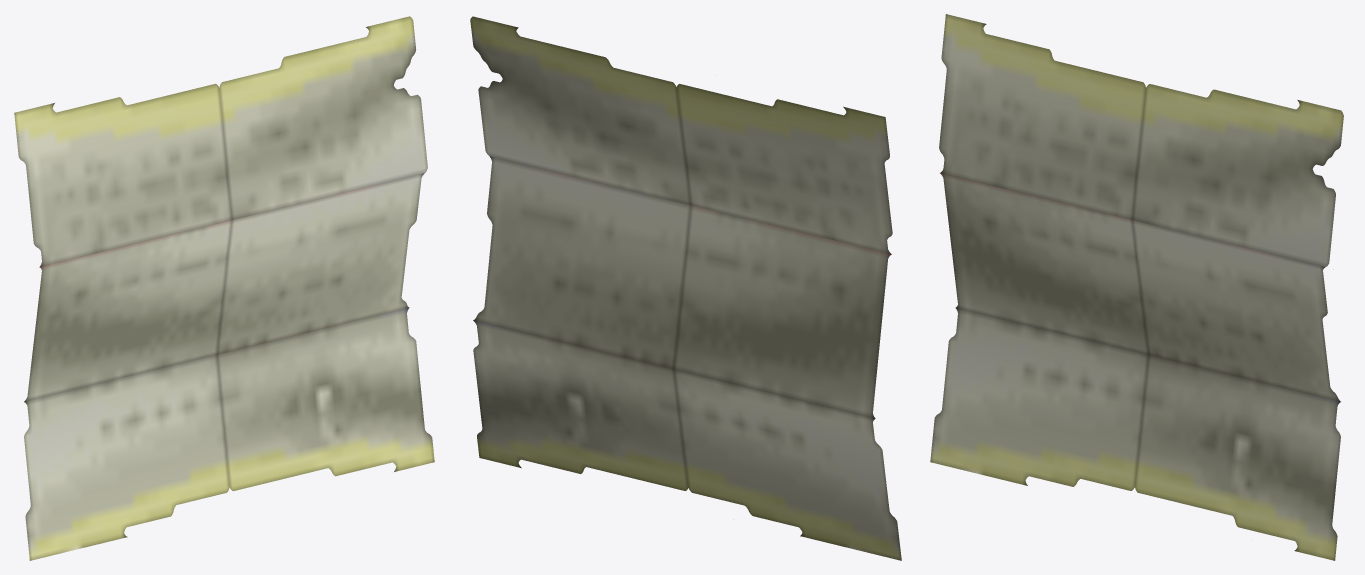
3 views of the same model, side by side, from view 1: azimuth 30°, elevation 25°; view 2: azimuth 150°, elevation 25°; view 3: azimuth 330°, elevation 25° (orthographic). The views are drawn at different scales.
Visible parts, largest first — view 1: T1L3M001_12; view 2: T1L3M001_12; view 3: T1L3M001_12.
Boxes of the visible parts, <box> form: T1L3M001_12: <box>14,16,434,560</box>; T1L3M001_12: <box>470,16,901,560</box>; T1L3M001_12: <box>930,14,1343,560</box>.
Size of the model in its own units: 0.6006 by 0.6191 by 0.04.
